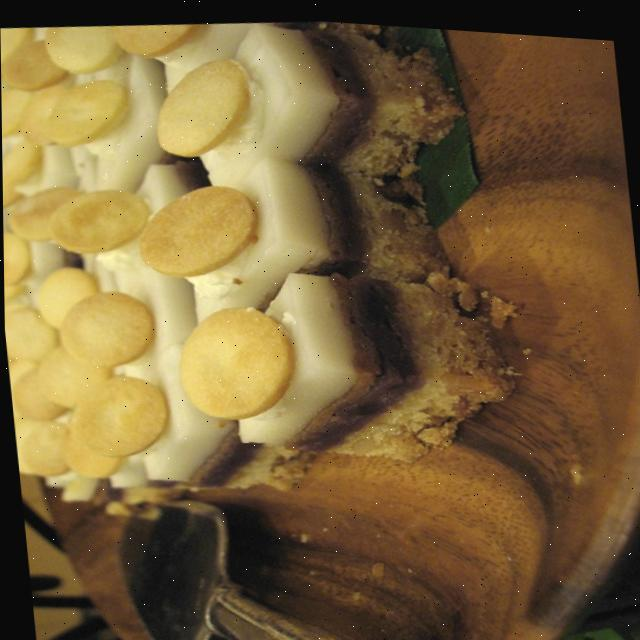蛋糕甜品: (0, 0, 511, 543)
